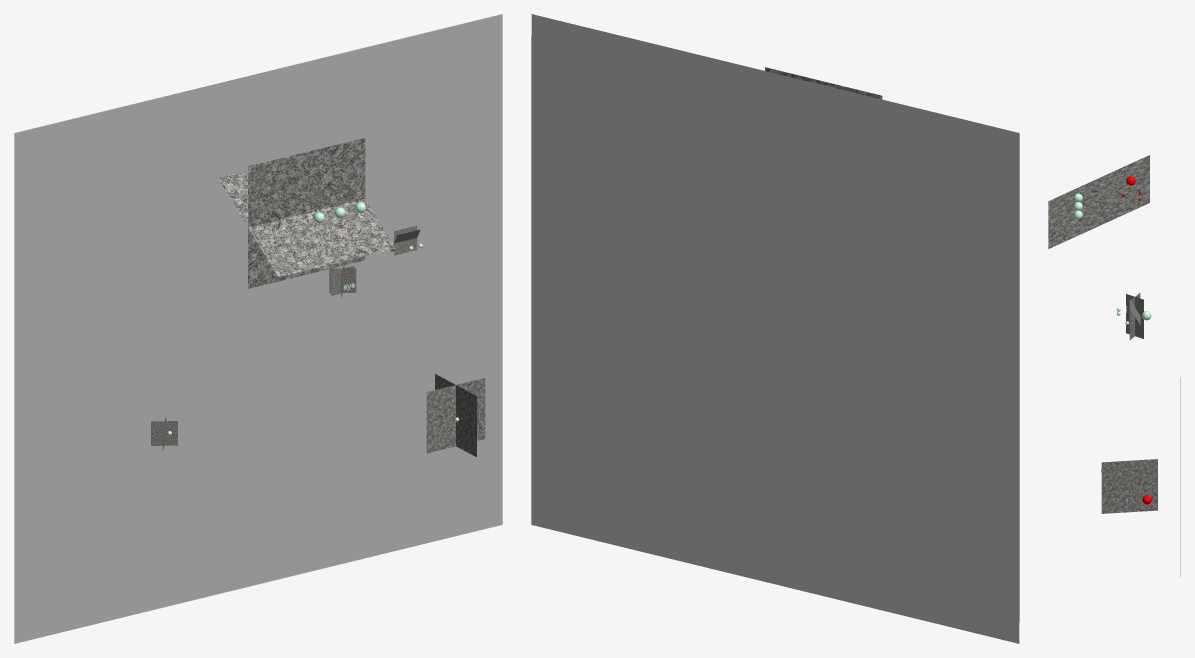
File: visuel4_.fbx
The picture shows the model from 3 angles, left to right: view 1: azimuth 30°, elevation 25°; view 2: azimuth 150°, elevation 25°; view 3: azimuth 270°, elevation 25°; orthographic projection. The views are drawn at different scales.
Visible parts, largest first — view 1: Plane, Plane_5, Plane_6, Plane_3, Plane_7; view 2: Plane; view 3: Plane_6, Plane_7, Plane_10, Plane_12.
Boxes of the visible parts, x1=… form: Plane: x1=14, y1=14, x2=502, y2=643; Plane_5: x1=248, y1=138, x2=365, y2=288; Plane_6: x1=218, y1=170, x2=395, y2=277; Plane_3: x1=426, y1=378, x2=485, y2=453; Plane_7: x1=435, y1=374, x2=476, y2=457; Plane: x1=531, y1=14, x2=1019, y2=643; Plane_6: x1=1048, y1=155, x2=1149, y2=248; Plane_7: x1=1101, y1=459, x2=1157, y2=513; Plane_10: x1=1126, y1=294, x2=1143, y2=320; Plane_12: x1=1126, y1=314, x2=1143, y2=338.
Bounding box in the file's own units: 400 × 400 × 111.
